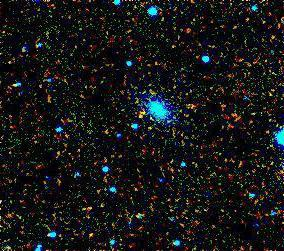star: (129, 99, 159, 129)
